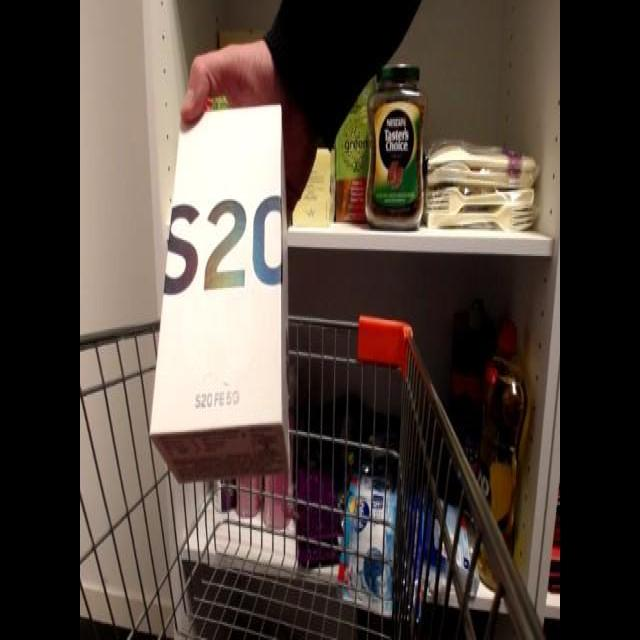Samsung S20: (146, 90, 292, 492)
